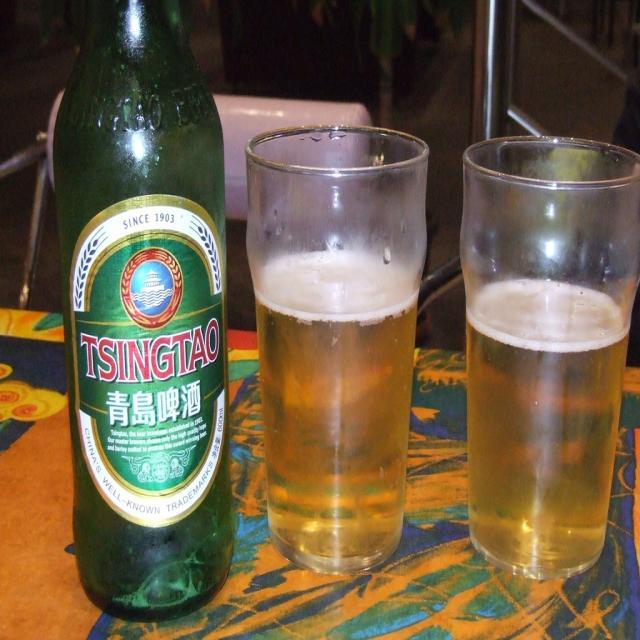tsingtao: (71, 194, 227, 528)
